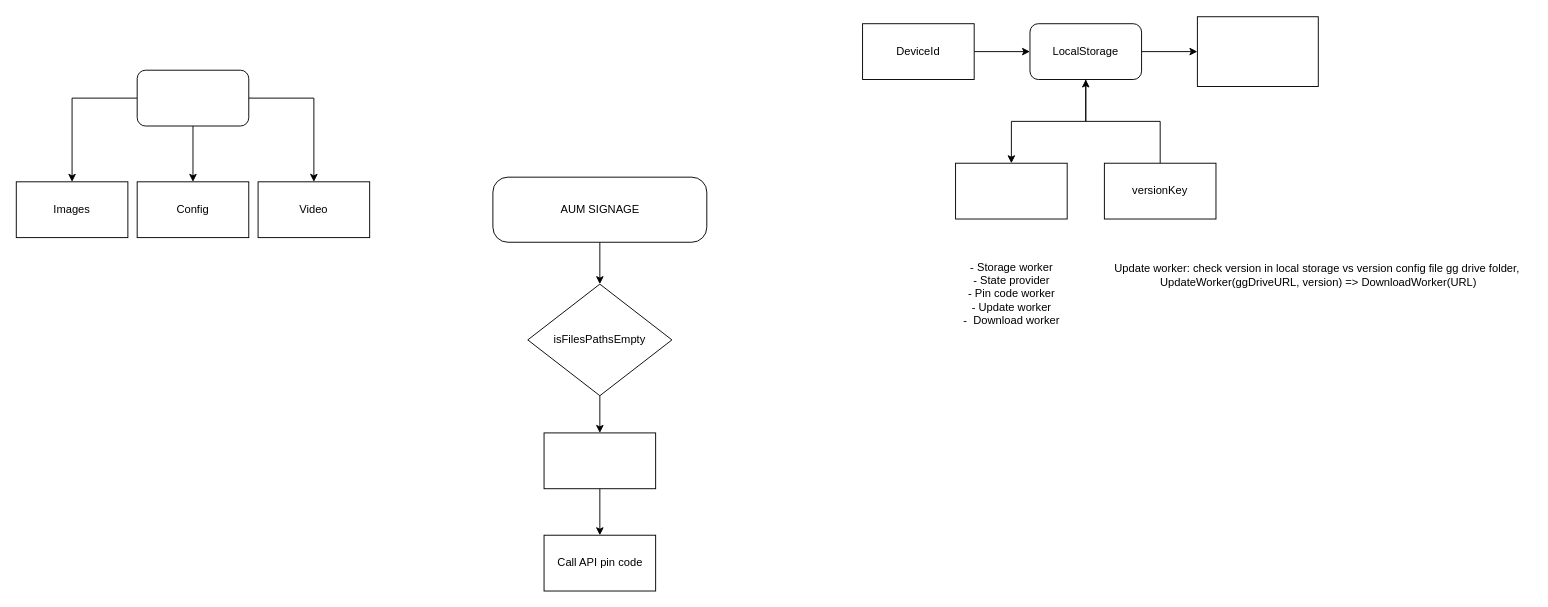
Image size: 1548x607. Some labels were removed from this diagram. The centre of each missing label's shape, as x and y in pixels:
"File paths" goes at (x=1011, y=190).
"generatePinCode" goes at (x=599, y=460).
"GoogleDrive folder" goes at (x=192, y=97).
"GoogleDrive url" goes at (x=1257, y=51).
